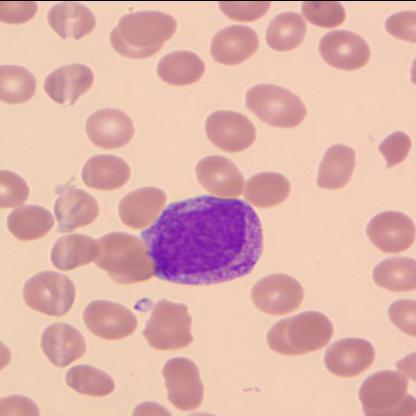Promyelocyte: (138, 194, 266, 286)
